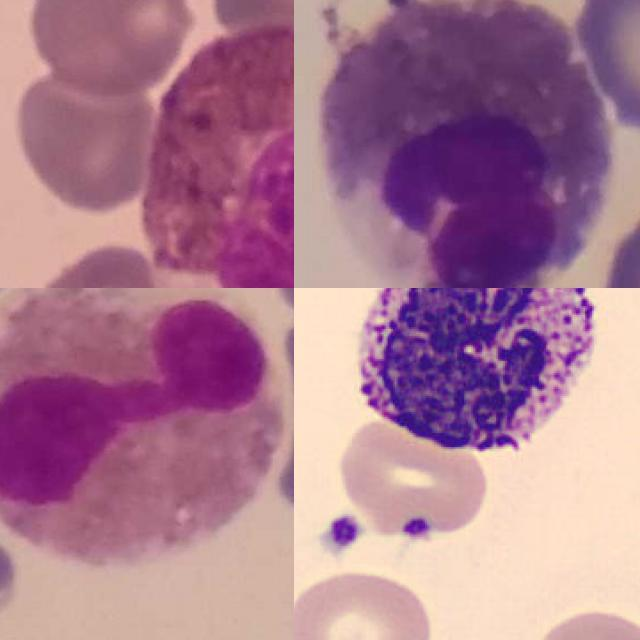Basophil: (336, 288, 613, 484)
Eosinophil: (312, 0, 617, 288), (0, 288, 289, 574)
Lymphocyte: (140, 25, 294, 288)
Platelets: (317, 509, 367, 555), (395, 511, 434, 542)
RBC: (331, 416, 493, 543), (294, 561, 439, 640), (515, 604, 640, 640)
